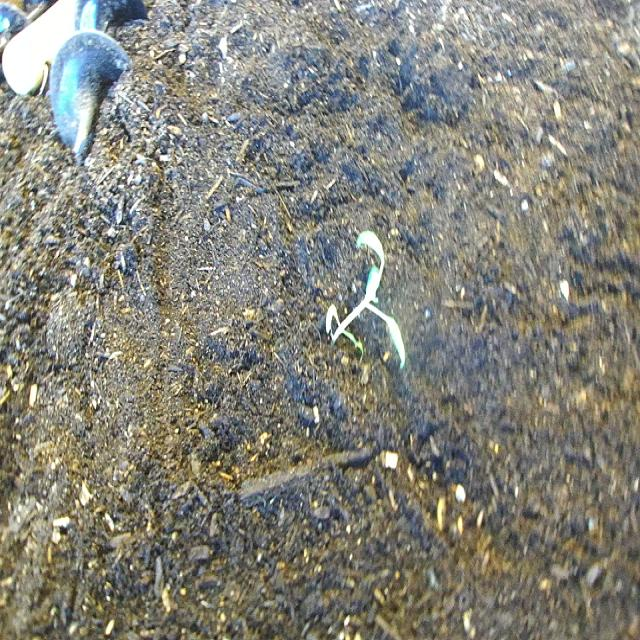Healthy: (316, 206, 416, 388)
